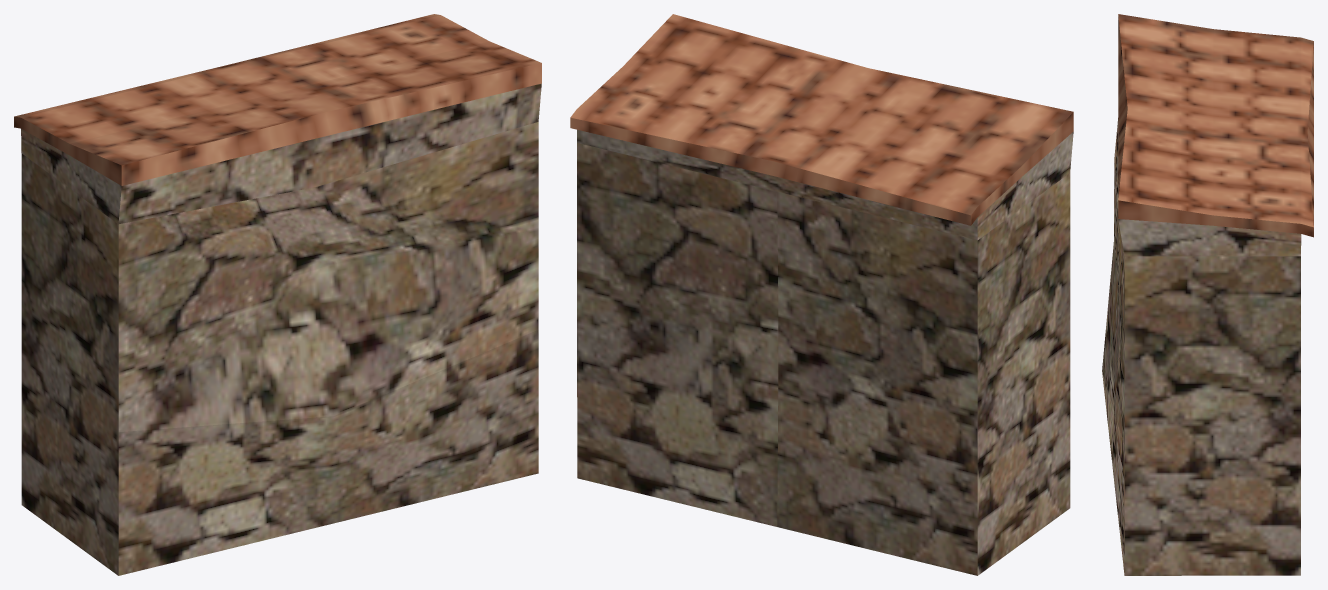
File: drystone_wall_half_tiles.fbx
The picture shows the model from 3 angles, left to right: view 1: azimuth 30°, elevation 25°; view 2: azimuth 150°, elevation 25°; view 3: azimuth 270°, elevation 25°; orthographic projection. The views are drawn at different scales.
Parts seen in each view (by area): view 1: drystone_wall_half_tiles; view 2: drystone_wall_half_tiles; view 3: drystone_wall_half_tiles.
Boxes of the visible parts, x1,y1,x2,y2 form: drystone_wall_half_tiles: (14,14,541,575); drystone_wall_half_tiles: (570,14,1073,575); drystone_wall_half_tiles: (1102,14,1313,575).
Bounding box in the file's own units: 100 × 93.98 × 48.05.
Materials: 2 (2 with a texture image).
